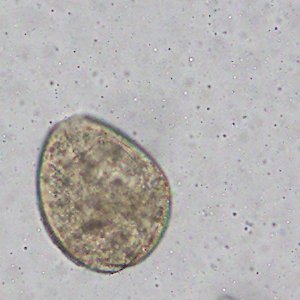Fasciola_hepatica_egg: (34, 111, 173, 276)
